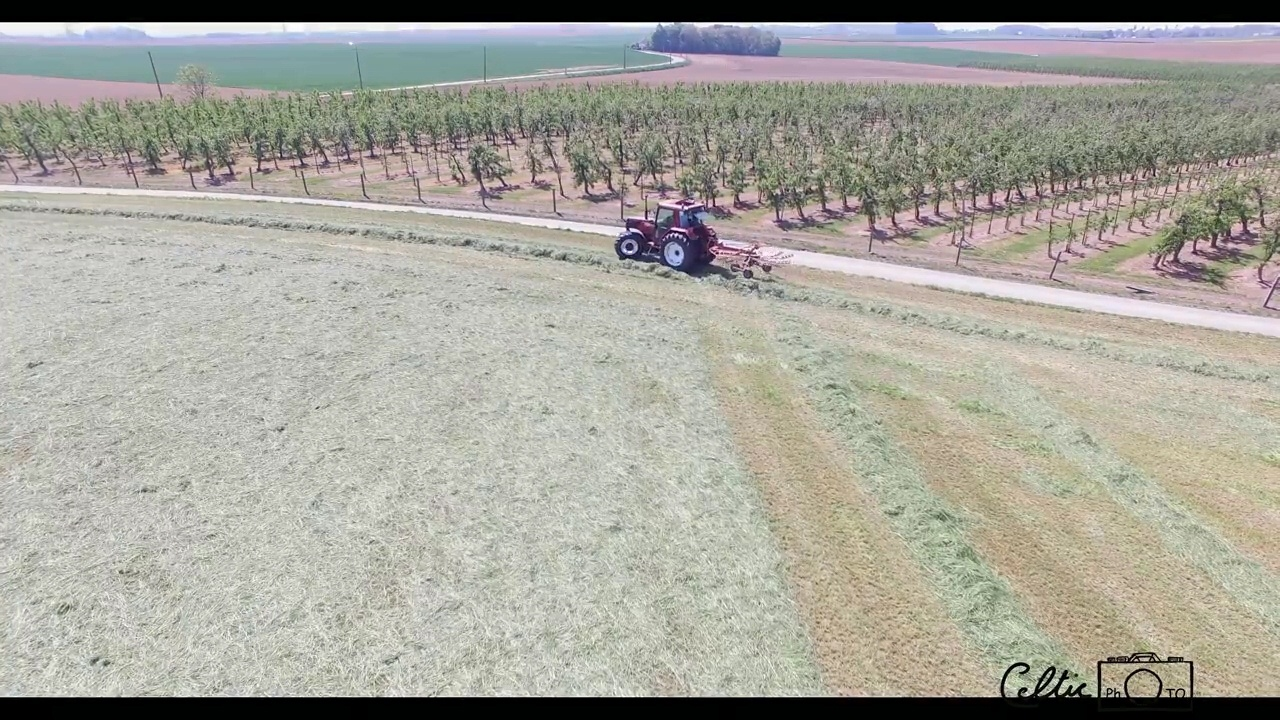traktor: (612, 198, 720, 270)
